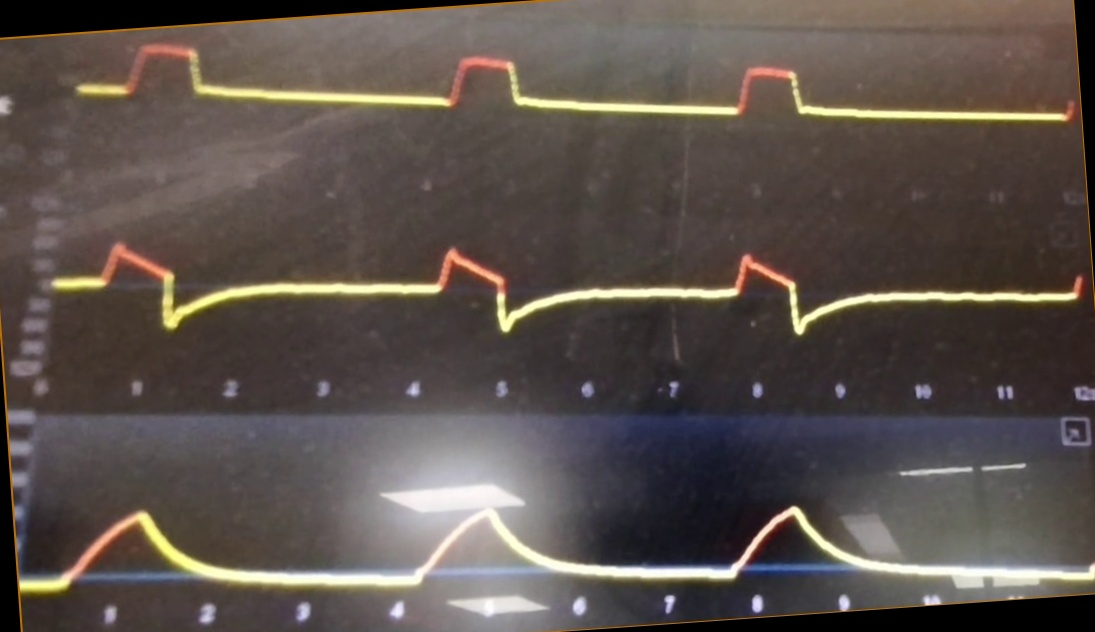Normal Flow: (50, 212, 1085, 355)
Normal Volume: (17, 479, 1093, 597)
